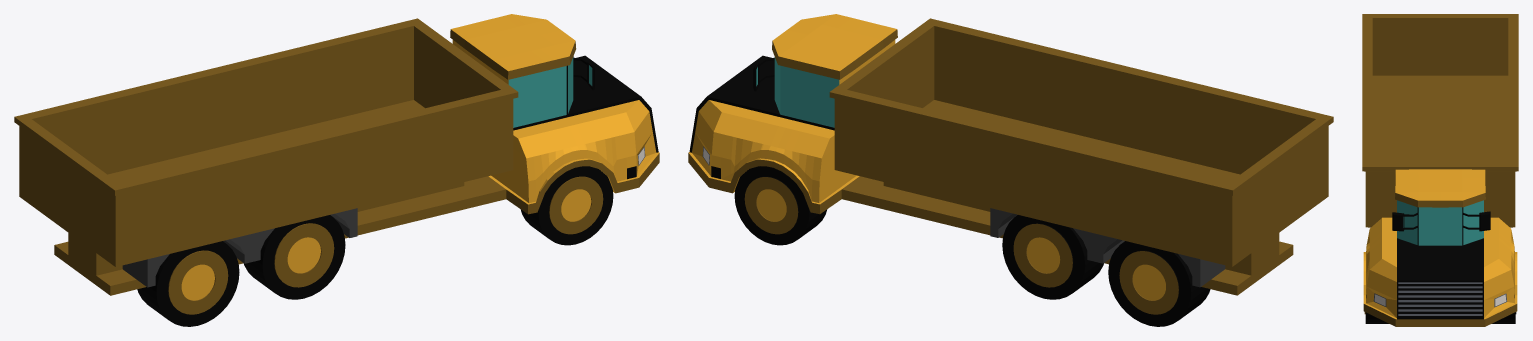
File: construction truck 2.fbx
The picture shows the model from 3 angles, left to right: view 1: azimuth 30°, elevation 25°; view 2: azimuth 150°, elevation 25°; view 3: azimuth 270°, elevation 25°; orthographic projection. The views are drawn at different scales.
Parts seen in each view (by area): view 1: truck base.001; view 2: truck base.001; view 3: truck base.001.
Part boxes in pixels (x1,y1,x2,y2): truck base.001: [14, 14, 659, 326]; truck base.001: [688, 14, 1333, 326]; truck base.001: [1362, 14, 1518, 326].
Bounding box in the file's own units: 719 × 208 × 221.
